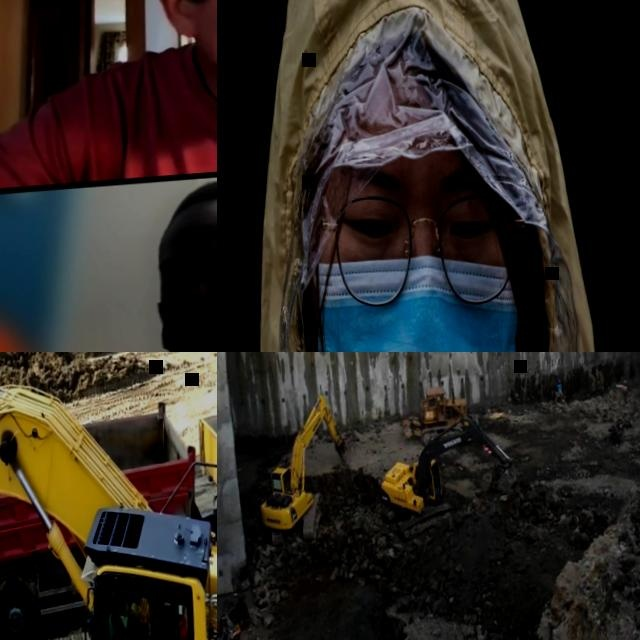Hardhat: (558, 379, 562, 383)
Mask: (305, 248, 536, 352)
NO-Hardhat: (275, 0, 542, 182), (151, 172, 217, 244)
NO-Mask: (150, 284, 217, 352)
NO-Safety Vest: (57, 35, 217, 180), (144, 627, 151, 640)
Person: (217, 0, 640, 352), (0, 0, 217, 192), (23, 158, 217, 352), (114, 600, 156, 640), (233, 620, 242, 640), (556, 377, 564, 398)
Safety Vest: (172, 615, 190, 640), (557, 385, 563, 394)
machinery: (0, 352, 217, 640), (0, 398, 209, 640), (373, 413, 522, 542), (250, 390, 354, 549), (417, 383, 481, 444)
